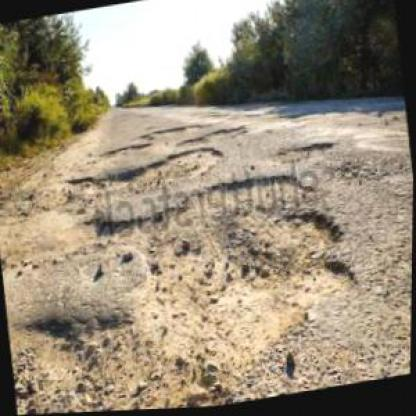pothole: (122, 160, 377, 410), (57, 143, 229, 213), (134, 121, 211, 160), (178, 123, 250, 150), (275, 139, 337, 168)
